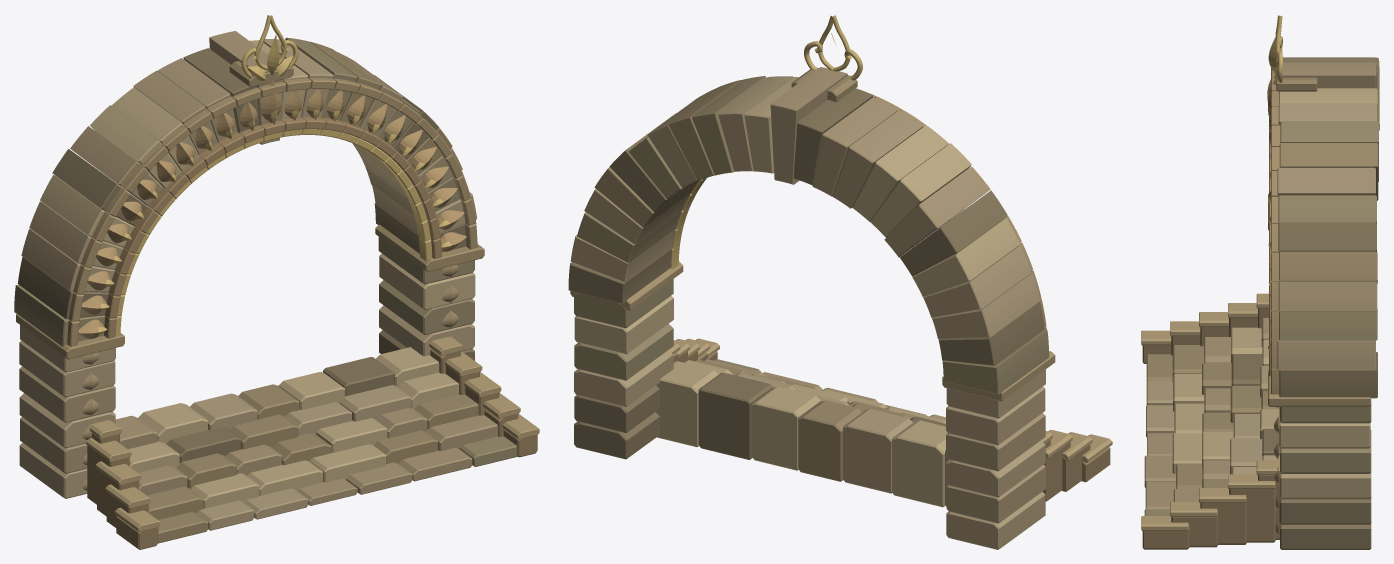
File: ShrineLotusPortal.glb
3 renders of one model, left to right at view 1: azimuth 30°, elevation 25°; view 2: azimuth 150°, elevation 25°; view 3: azimuth 270°, elevation 25°, orthographic. The views are drawn at different scales.
Visible parts, largest first — view 1: Carved portal limestone, Bronze leaf ribs and inner moulding; view 2: Carved portal limestone, Bronze leaf ribs and inner moulding; view 3: Carved portal limestone, Bronze leaf ribs and inner moulding.
Part boxes in pixels (<box>): Carved portal limestone: <box>14,31,539,549</box>; Bronze leaf ribs and inner moulding: <box>98,15,452,334</box>; Carved portal limestone: <box>568,67,1112,549</box>; Bronze leaf ribs and inner moulding: <box>670,15,862,269</box>; Carved portal limestone: <box>1141,57,1379,549</box>; Bronze leaf ribs and inner moulding: <box>1267,15,1282,371</box>.
Size of the model in its own units: 11.75 by 11.74 by 5.79.
